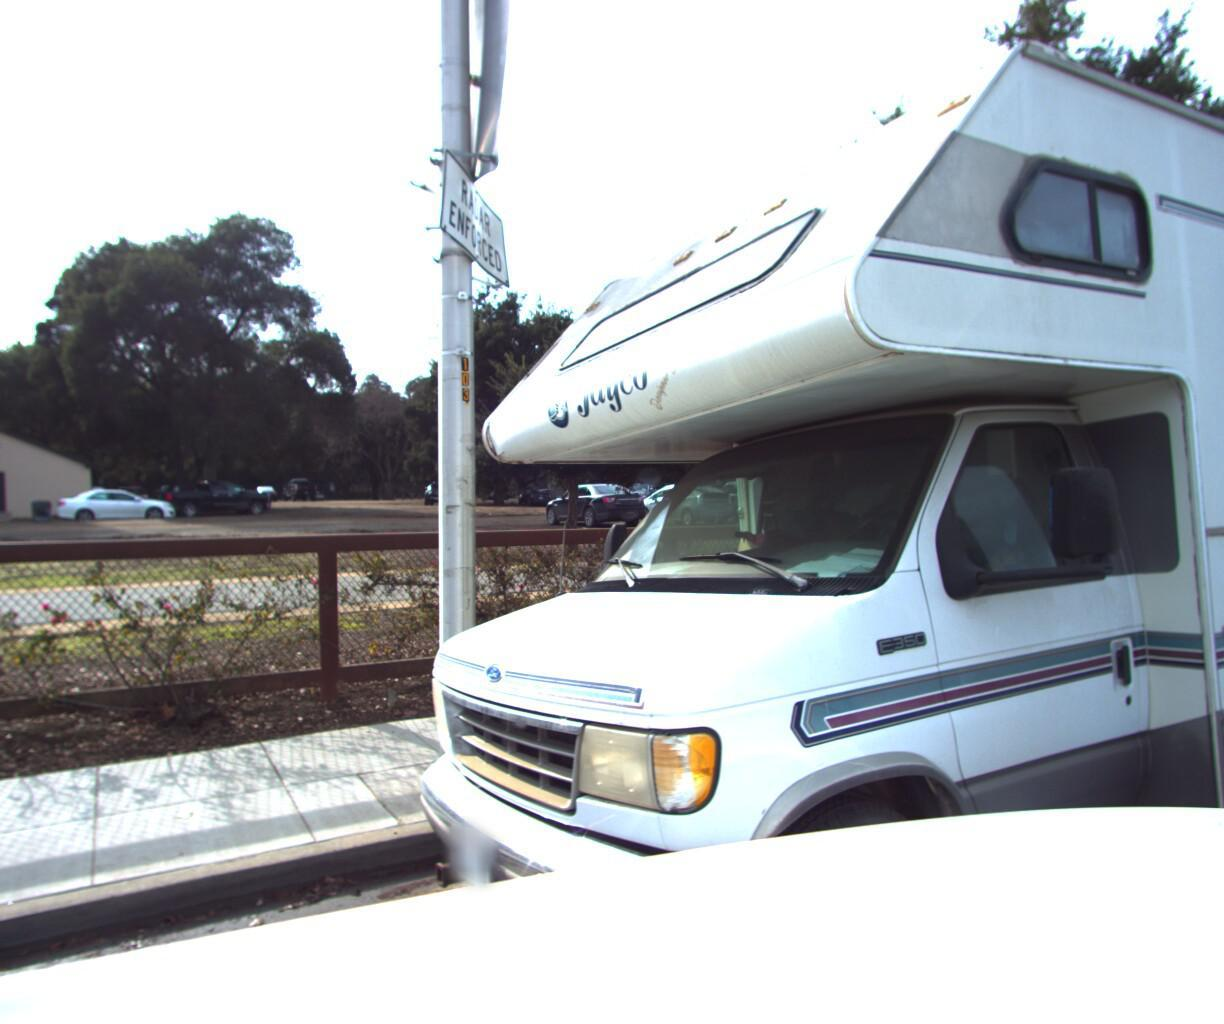other_vehicle: (299, 0, 1224, 1024)
